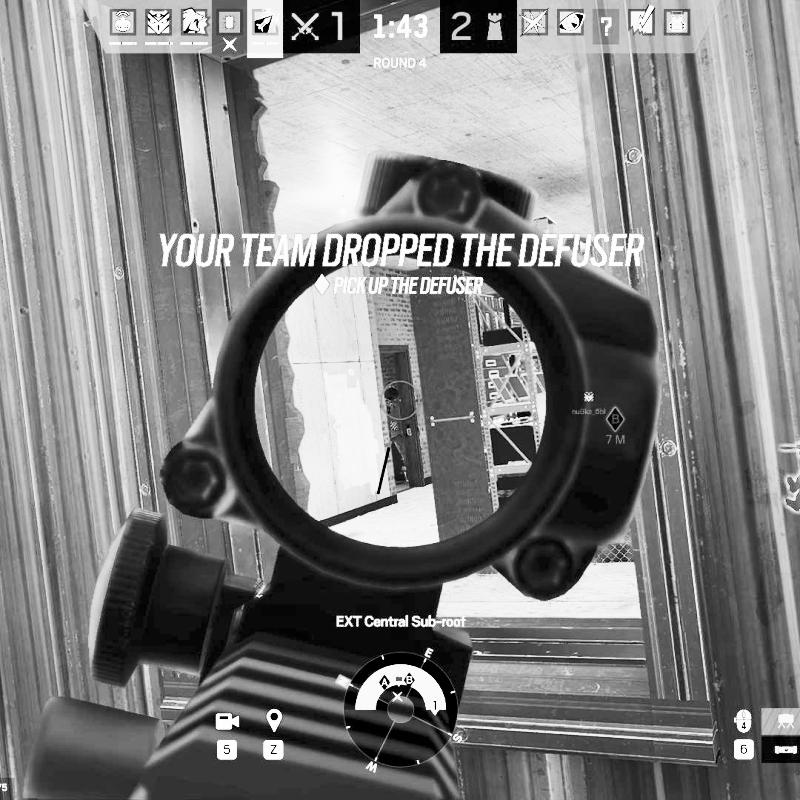Character: (381, 384, 409, 484)
Friend_label: (571, 390, 607, 416)
Head: (384, 384, 400, 404)
